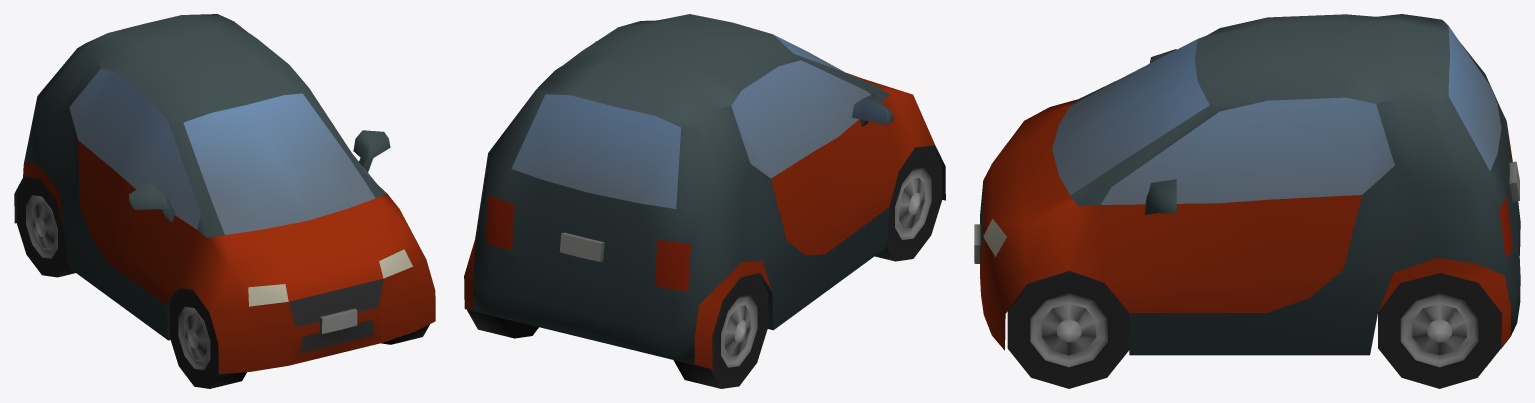
The model's file is vehicles-cars-mini-car_v1.fbx.
3 renders of one model, left to right at view 1: azimuth 30°, elevation 25°; view 2: azimuth 150°, elevation 25°; view 3: azimuth 270°, elevation 25°, orthographic. The views are drawn at different scales.
Visible parts, largest first — view 1: Mini Car; view 2: Mini Car; view 3: Mini Car.
Part boxes in pixels (x1,y1,x2,y2): Mini Car: (14, 14, 435, 388); Mini Car: (464, 14, 945, 388); Mini Car: (974, 14, 1520, 388).
Bounding box in the file's own units: 1.77 × 1.54 × 2.7.
